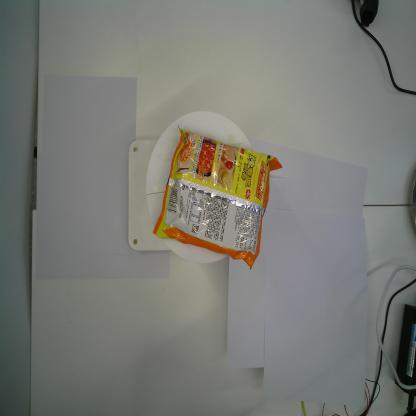Instant Noodles: (152, 124, 285, 272)
